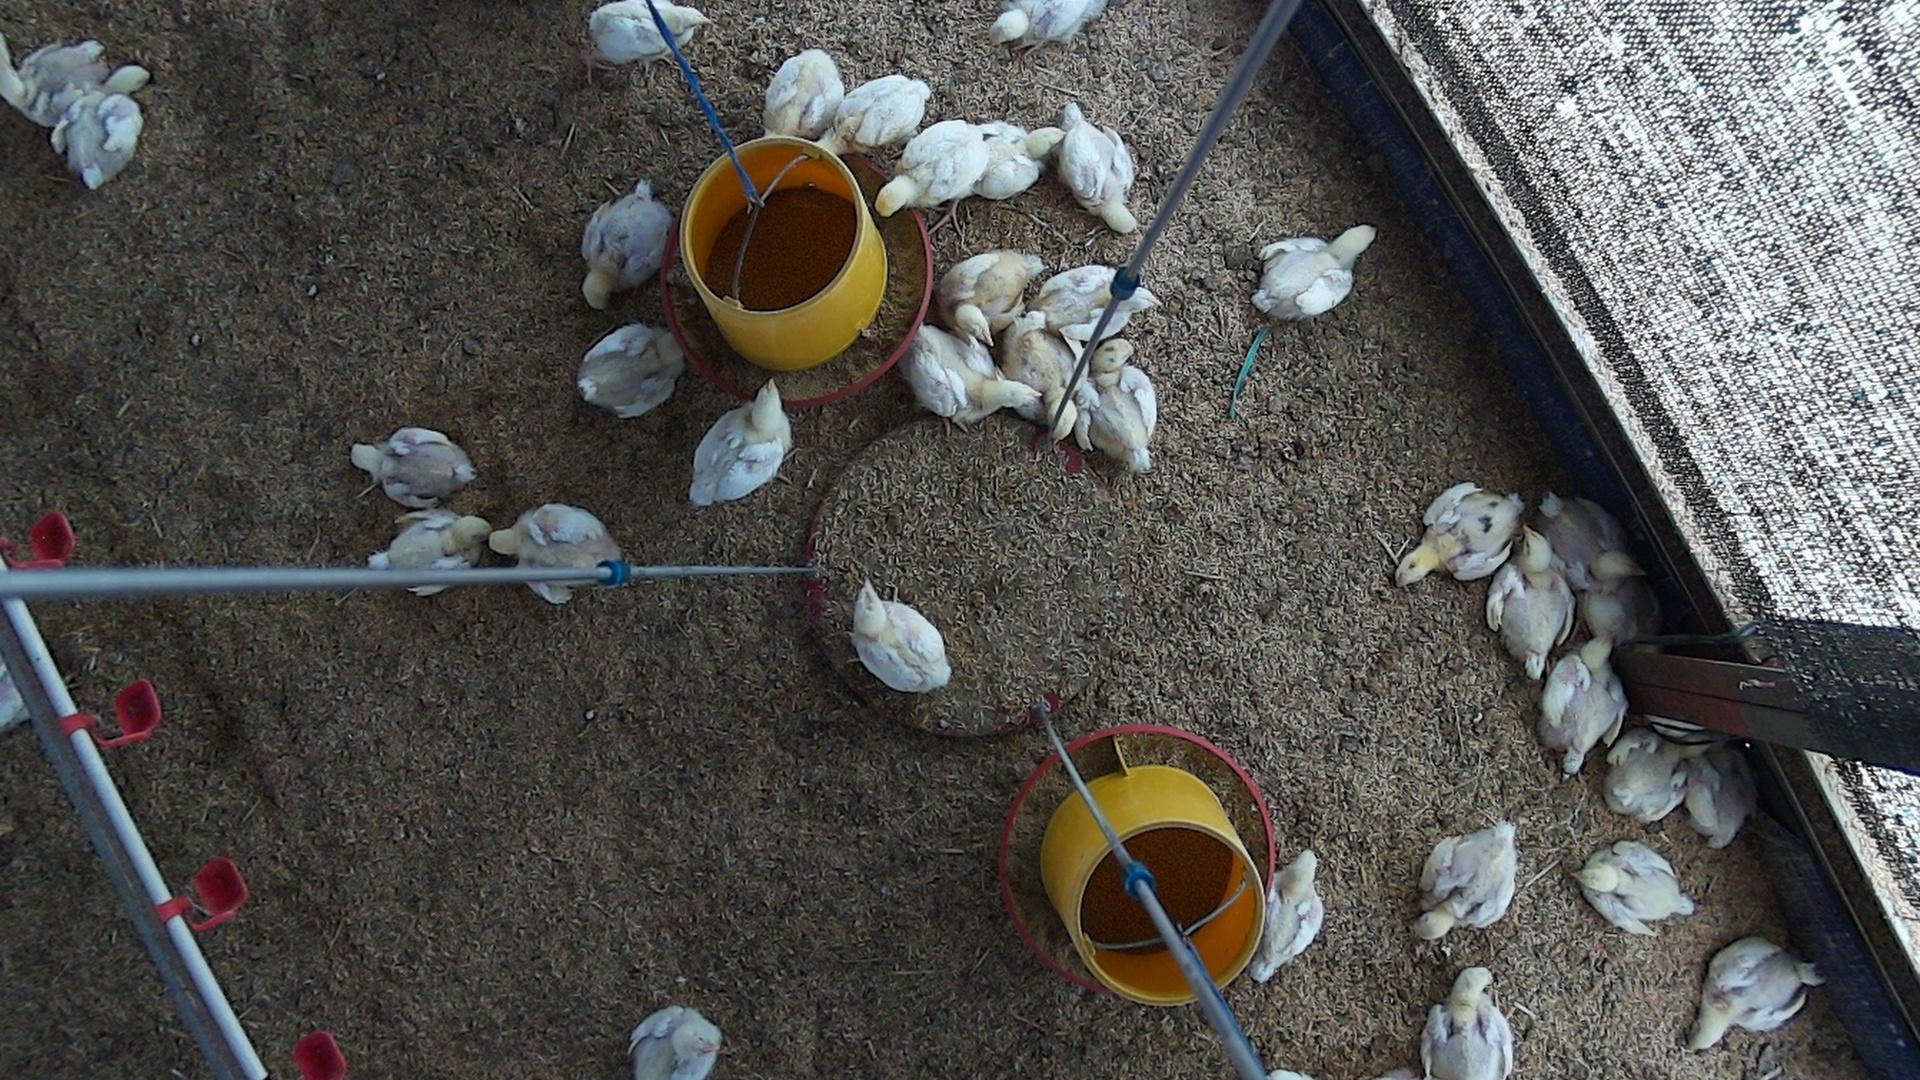ayam_broiler: (1692, 939, 1822, 1047), (488, 502, 626, 603), (688, 380, 794, 506), (906, 324, 1042, 422), (1489, 530, 1575, 680), (1396, 481, 1522, 582), (1418, 820, 1518, 942), (582, 177, 671, 309), (55, 62, 146, 189), (1543, 636, 1626, 774), (364, 510, 492, 599), (1076, 338, 1159, 472), (1253, 227, 1374, 316), (1581, 840, 1695, 935), (852, 580, 949, 690), (877, 119, 986, 215), (1423, 967, 1515, 1080), (1059, 100, 1138, 232), (1029, 266, 1163, 343), (349, 425, 475, 505), (578, 322, 684, 415), (934, 249, 1046, 338), (0, 36, 107, 127), (1538, 493, 1634, 592), (1253, 848, 1324, 980), (1005, 314, 1080, 431), (761, 47, 845, 145), (588, 0, 712, 65), (825, 75, 931, 148), (1605, 735, 1689, 823), (630, 1005, 723, 1080), (1577, 574, 1663, 654), (973, 120, 1062, 198), (1685, 749, 1754, 849), (994, 0, 1102, 42)
